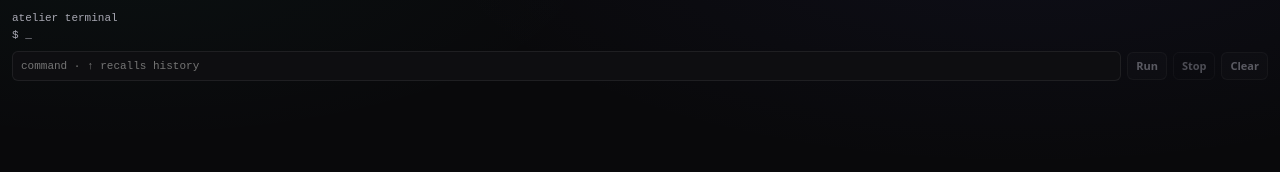
terminal panel › runs a command and records it in history
Type "ls" into the field with test id "terminal-input" at {"x": 567, "y": 66}, box left=12, top=51, right=1121, bottom=81
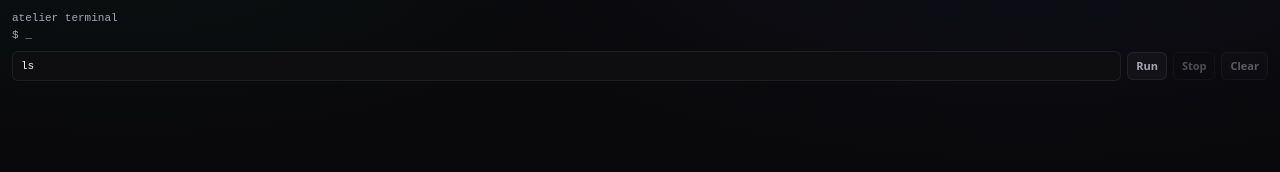
Submit the form with test id "terminal-run", box left=12, top=51, right=1268, bottom=81
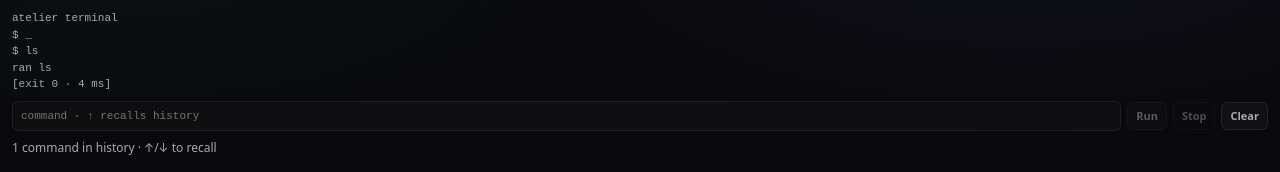
Expected: the text with test id "terminal-output" shows "[exit 0 · 4 ms]", left=12, top=12, right=118, bottom=90
Expected: the text with test id "terminal-output" shows "ran", left=12, top=12, right=118, bottom=90
Expected: the text with test id "terminal-history-count" shows "1 command", left=12, top=138, right=217, bottom=156
